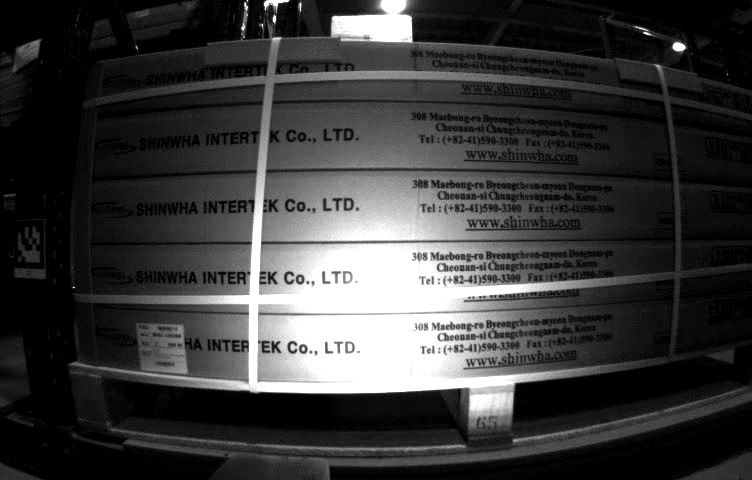True Barcode: (136, 324, 187, 373)
